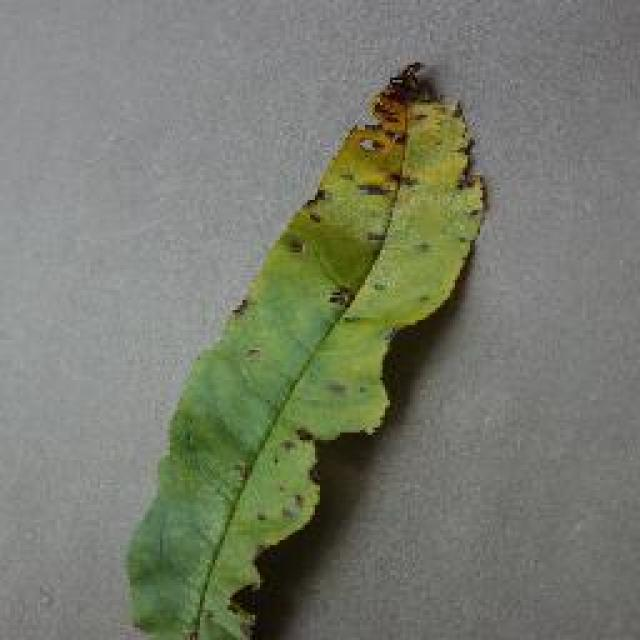Pea_Bacterial_spot: (288, 55, 477, 243), (232, 413, 336, 522), (320, 272, 372, 328)
